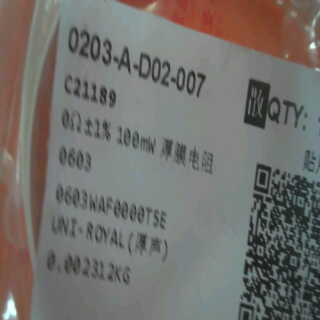0R: (55, 105, 113, 170)
